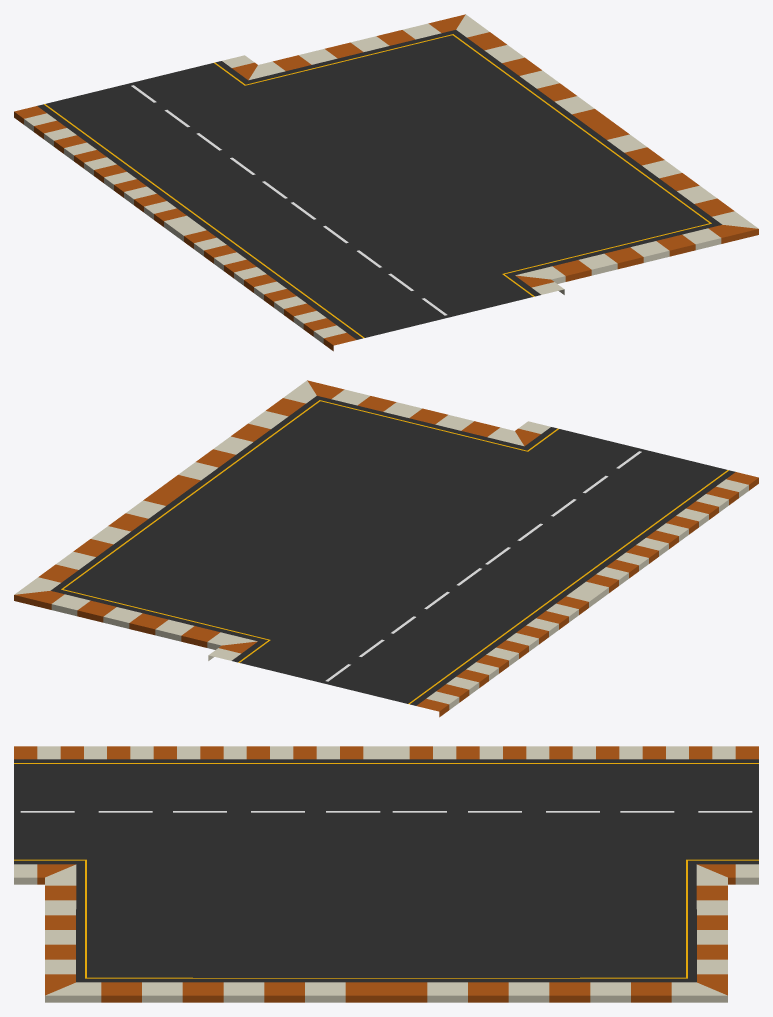
The model's file is SM_Road_Gas_Station.fbx.
3 renders of one model, top to bottom at view 1: azimuth 30°, elevation 25°; view 2: azimuth 150°, elevation 25°; view 3: azimuth 270°, elevation 25°, orthographic. The views are drawn at different scales.
Visible parts, largest first — view 1: SM_Road_Gas_Station_LOD0; view 2: SM_Road_Gas_Station_LOD0; view 3: SM_Road_Gas_Station_LOD0.
Part boxes in pixels (<box>): SM_Road_Gas_Station_LOD0: <box>14,14,758,351</box>; SM_Road_Gas_Station_LOD0: <box>14,380,758,717</box>; SM_Road_Gas_Station_LOD0: <box>14,746,758,1002</box>.
Size of the model in its own units: 1900 by 2400 by 25.
1 material, 1 textured.
